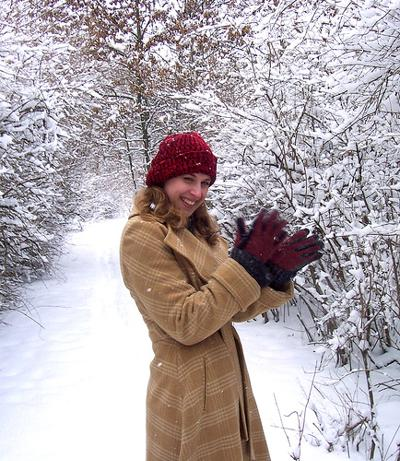person: (122, 131, 326, 461)
